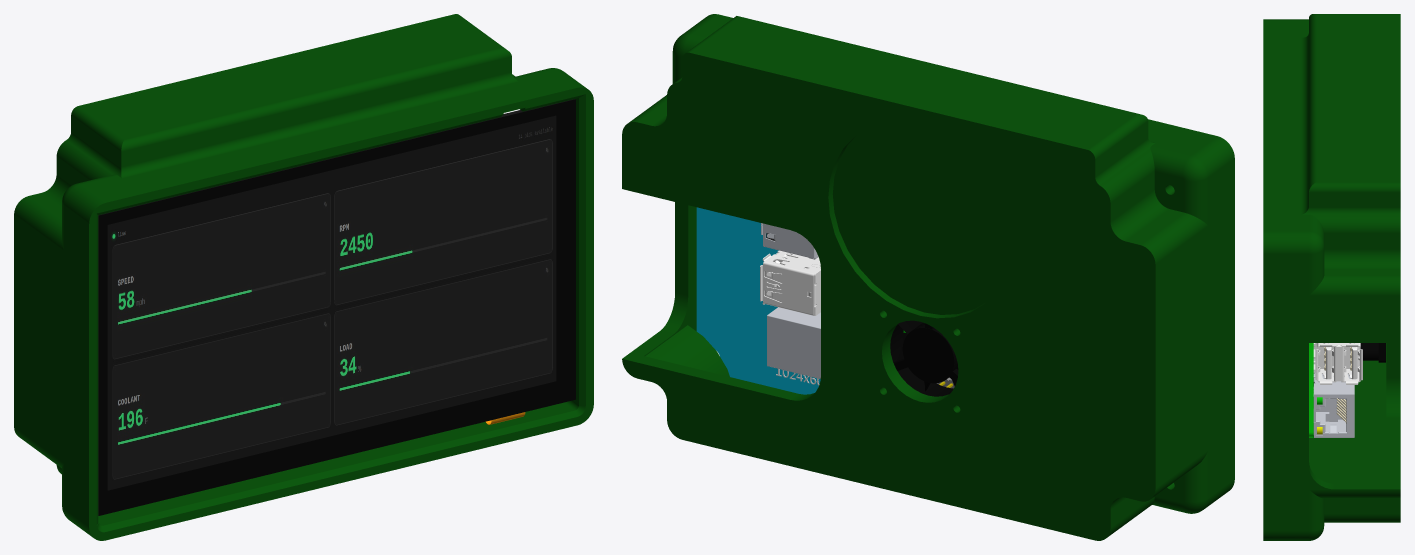
Rendered from carpi.glb.
The picture shows the model from 3 angles, left to right: view 1: azimuth 30°, elevation 25°; view 2: azimuth 150°, elevation 25°; view 3: azimuth 270°, elevation 25°; orthographic projection. The views are drawn at different scales.
Visible parts, largest first — view 1: Body4.004, Body1.026; view 2: Body1.026, Body7, Body1.025, Body1.016, Body1.013, Body1.021; view 3: Body1.026, Body1.013, Body1.016, Body1.006, Body1.025.
Part boxes in pixels (x1,y1,x2,y2): Body4.004: [98, 99, 575, 515]; Body1.026: [14, 14, 593, 540]; Body1.026: [622, 14, 1234, 540]; Body7: [696, 207, 820, 394]; Body1.025: [890, 320, 958, 396]; Body1.016: [760, 250, 820, 315]; Body1.013: [767, 307, 820, 378]; Body1.021: [761, 223, 818, 259]; Body1.026: [1263, 14, 1400, 540]; Body1.013: [1313, 373, 1354, 437]; Body1.016: [1313, 343, 1362, 384]; Body1.006: [1309, 343, 1313, 437]; Body1.025: [1360, 343, 1385, 362].
Bounding box in the file's own units: 0.1743 × 0.1214 × 0.0449.
35 materials, 1 textured.
